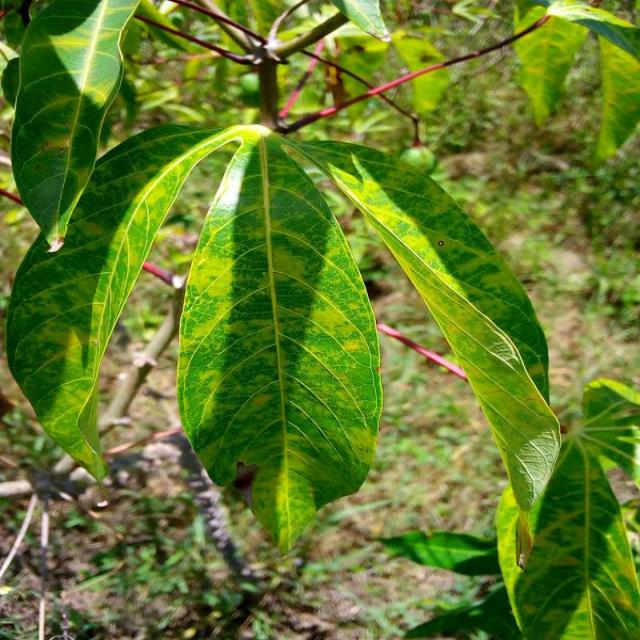cassava leaf: (6, 120, 560, 550), (285, 136, 562, 543), (5, 121, 259, 483), (175, 128, 384, 555), (494, 375, 640, 638), (8, 0, 140, 251)
